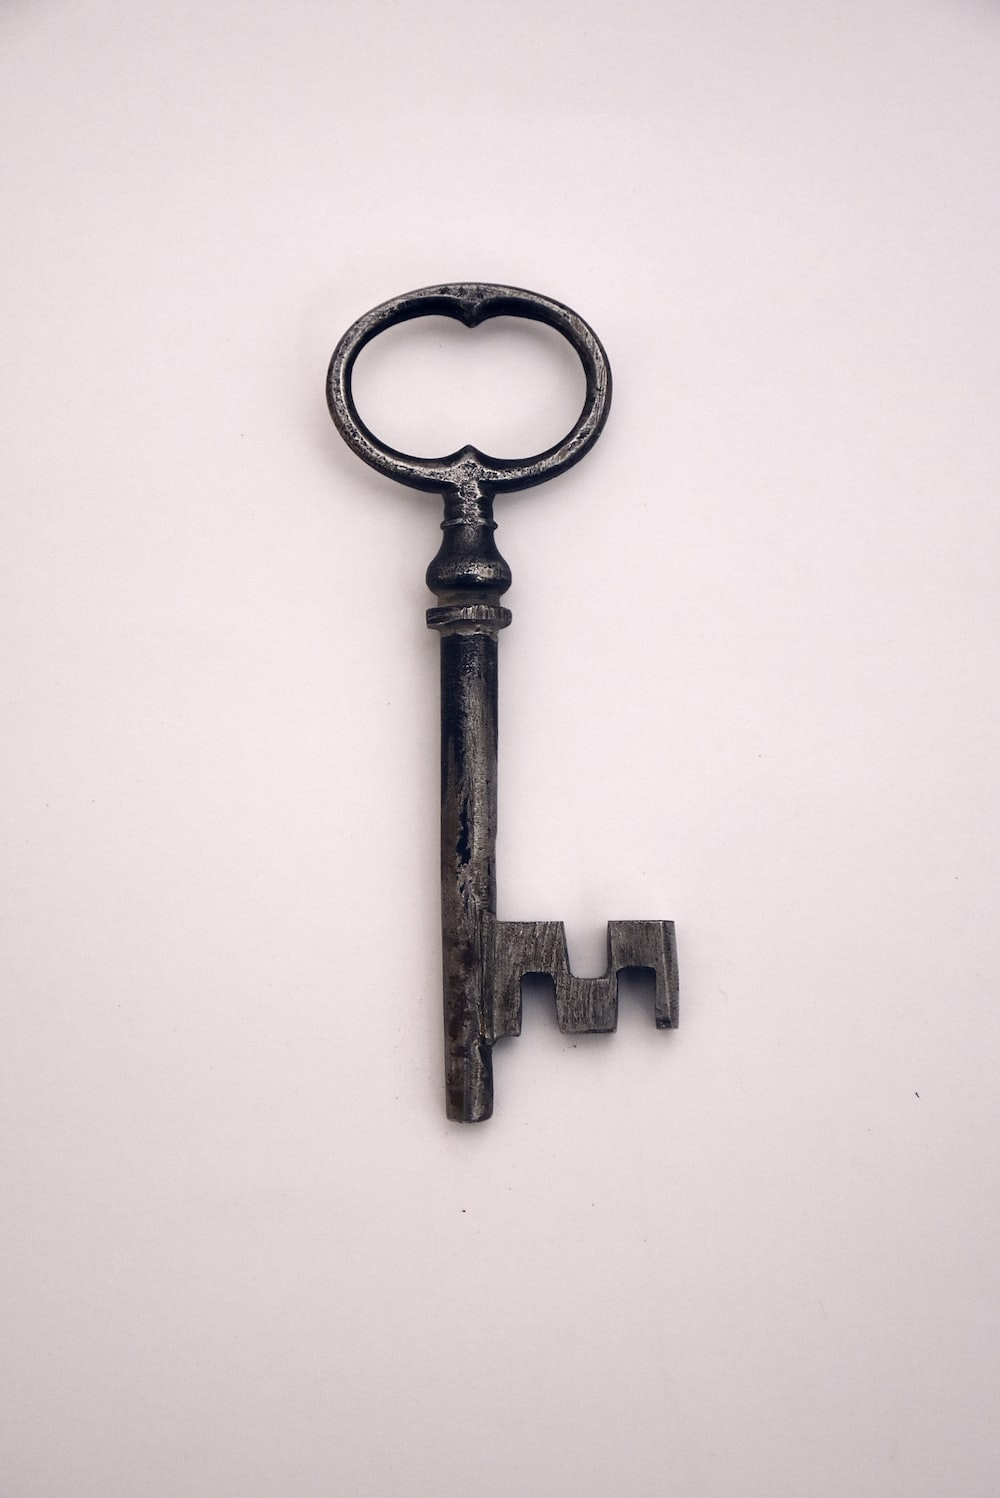key: (296, 270, 740, 1194)
